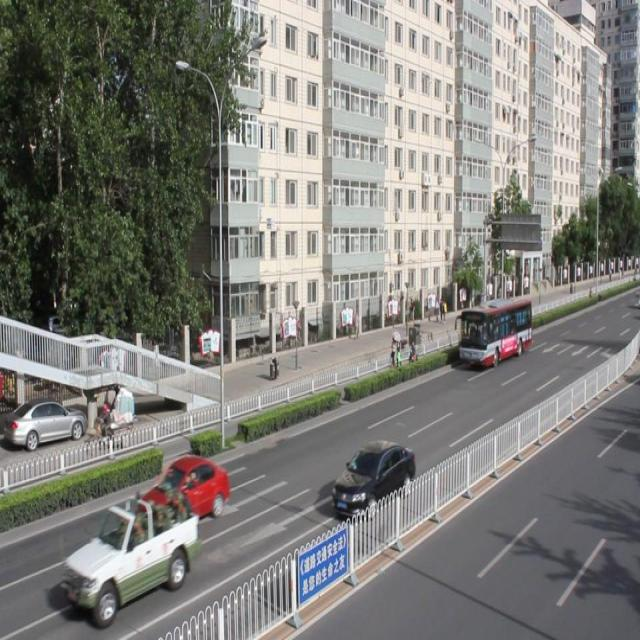car: (65, 497, 198, 619), (137, 451, 230, 523), (332, 438, 415, 514)
van: (458, 297, 531, 368)
